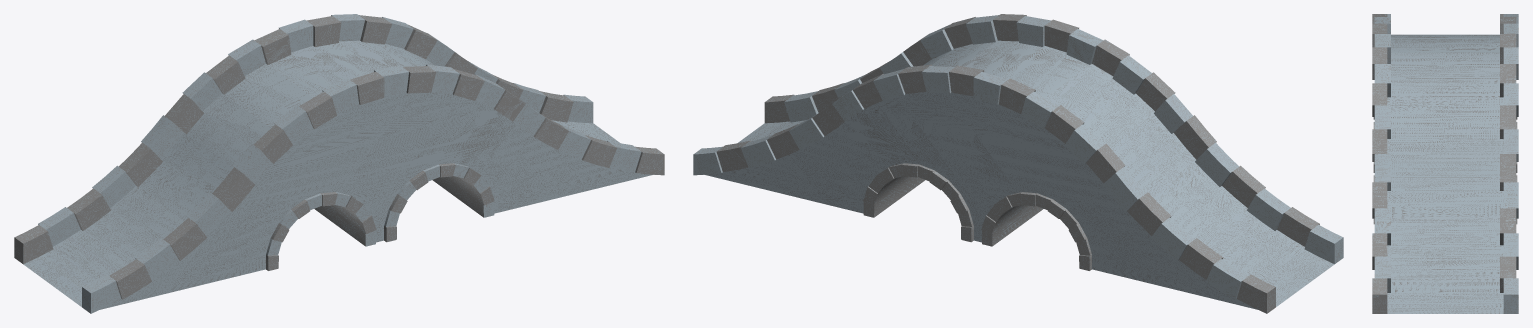
The model's file is Bridge_Large_Stone_01.fbx.
3 renders of one model, left to right at view 1: azimuth 30°, elevation 25°; view 2: azimuth 150°, elevation 25°; view 3: azimuth 270°, elevation 25°, orthographic. The views are drawn at different scales.
Visible parts, largest first — view 1: Model; view 2: Model; view 3: Model.
Boxes of the visible parts, x1,y1,x2,y2 form: Model: [14, 14, 664, 313]; Model: [693, 14, 1343, 313]; Model: [1372, 14, 1518, 313].
Bounding box in the file's own units: 4837 × 1342 × 1160.
